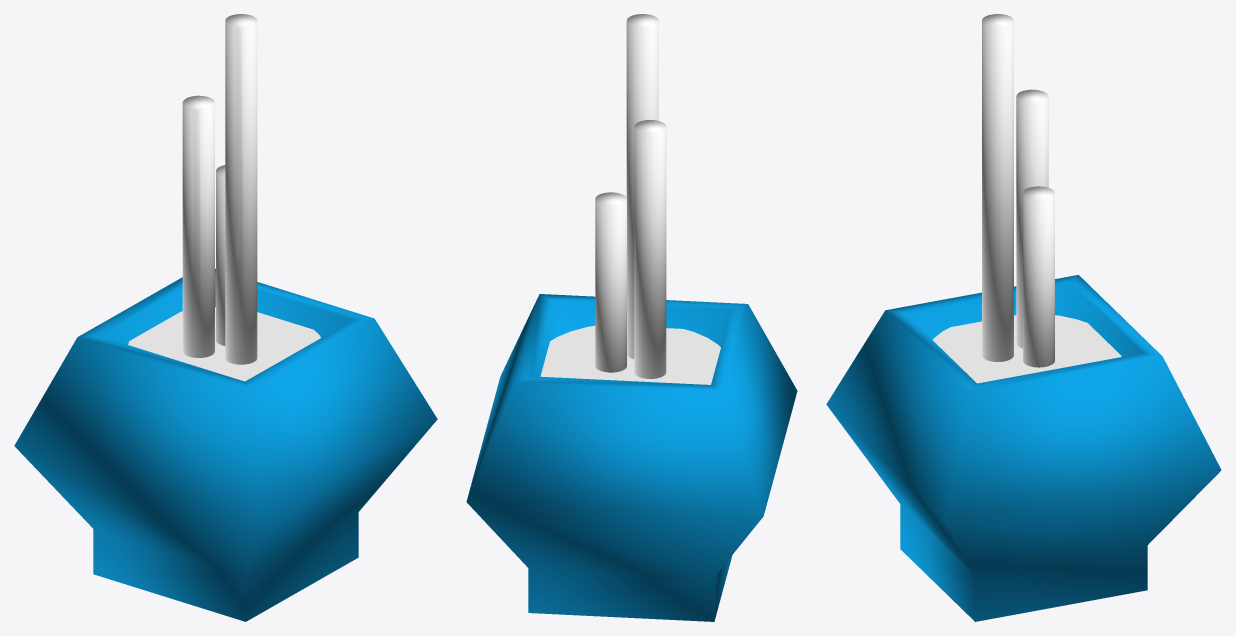
The model's file is bamboo (1).glb.
3 views of the same model, side by side, from view 1: azimuth 30°, elevation 25°; view 2: azimuth 150°, elevation 25°; view 3: azimuth 270°, elevation 25° (orthographic).
Visible parts, largest first — view 1: Cube.001, Cylinder, Cylinder.001, Cylinder.002; view 2: Cube.001, Cylinder.001, Cylinder.002, Cylinder; view 3: Cube.001, Cylinder, Cylinder.002, Cylinder.001.
Boxes of the visible parts, box(x1,y1,x2,y2) form: Cube.001: box(14, 268, 437, 621); Cylinder: box(225, 14, 257, 364); Cylinder.001: box(182, 95, 214, 357); Cylinder.002: box(216, 165, 225, 345); Cube.001: box(466, 294, 797, 621); Cylinder.001: box(634, 120, 666, 378); Cylinder.002: box(595, 192, 626, 372); Cylinder: box(626, 14, 658, 358); Cube.001: box(826, 275, 1221, 621); Cylinder: box(982, 14, 1013, 361); Cylinder.002: box(1023, 186, 1054, 367); Cylinder.001: box(1016, 89, 1048, 348).
Size of the model in its own units: 5.9 by 9.06 by 5.9.
